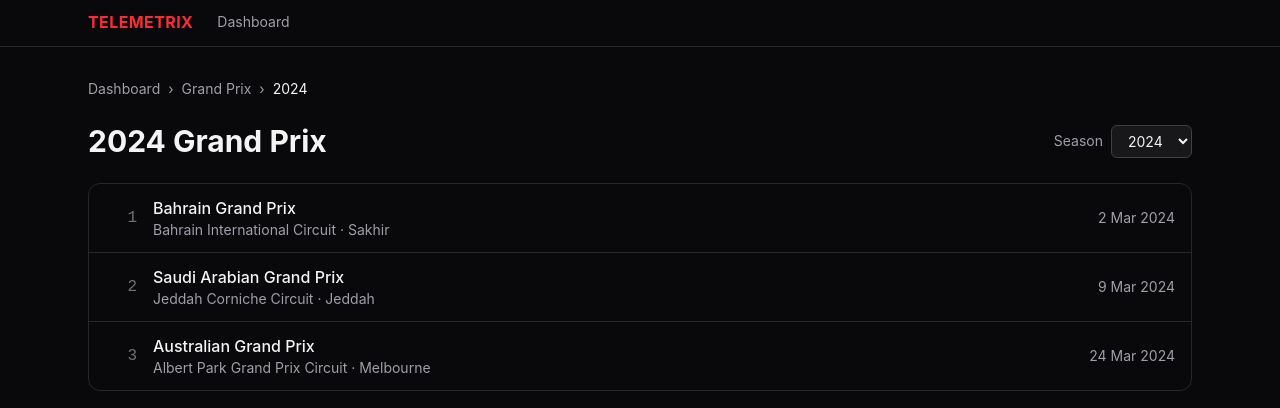
Test: Grand Prix list › choosing another year changes the URL and the list
The width and height of the screenshot is (1280, 408).
Expected: the text "Australian Grand Prix" is shown, [153,336,315,356]
Select "2023" in the dropdown labelled "Season" at (1152, 141), box [1111,124,1192,158]
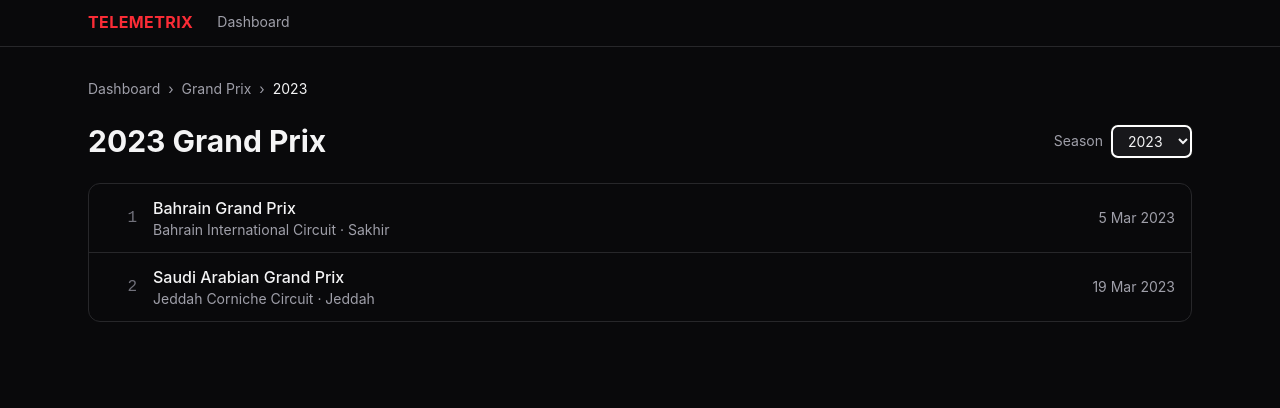
Now the link "Australian Grand Prix" is gone
